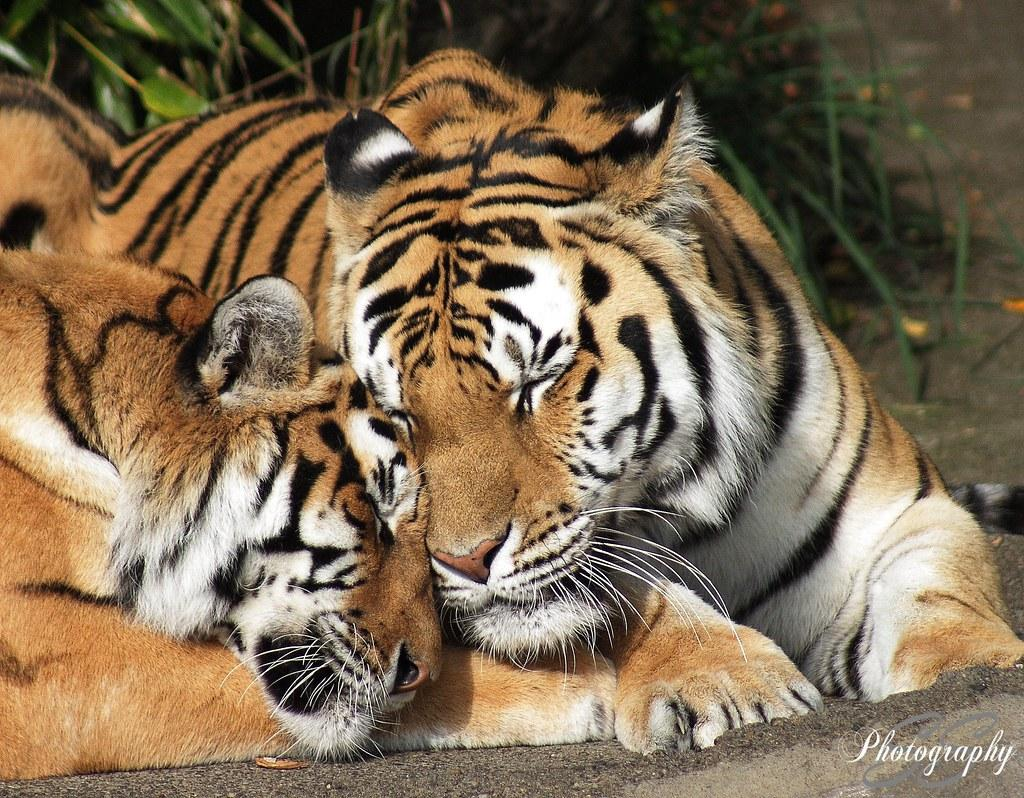tiger: (316, 46, 1023, 758)
